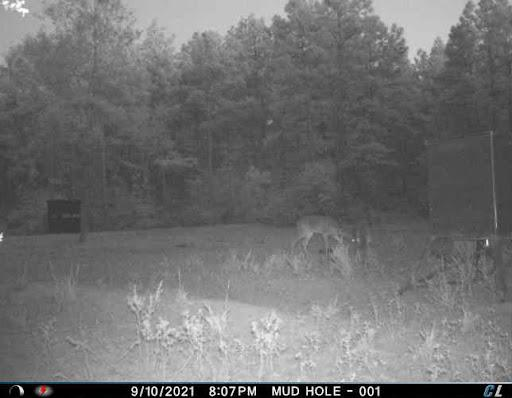Deer: (288, 210, 371, 273)
